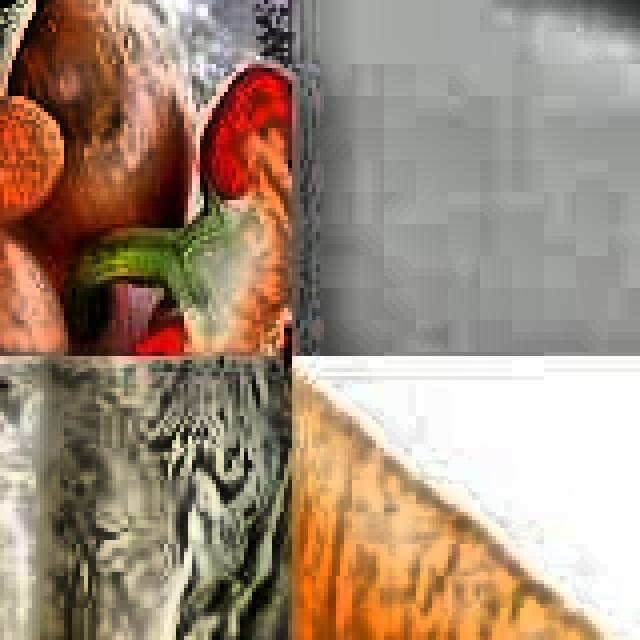bell_pepper: (128, 36, 292, 356)
cabbage: (0, 356, 292, 640)
carrot: (292, 356, 640, 640), (292, 0, 640, 276)
onion: (0, 0, 204, 296), (0, 204, 100, 356)
